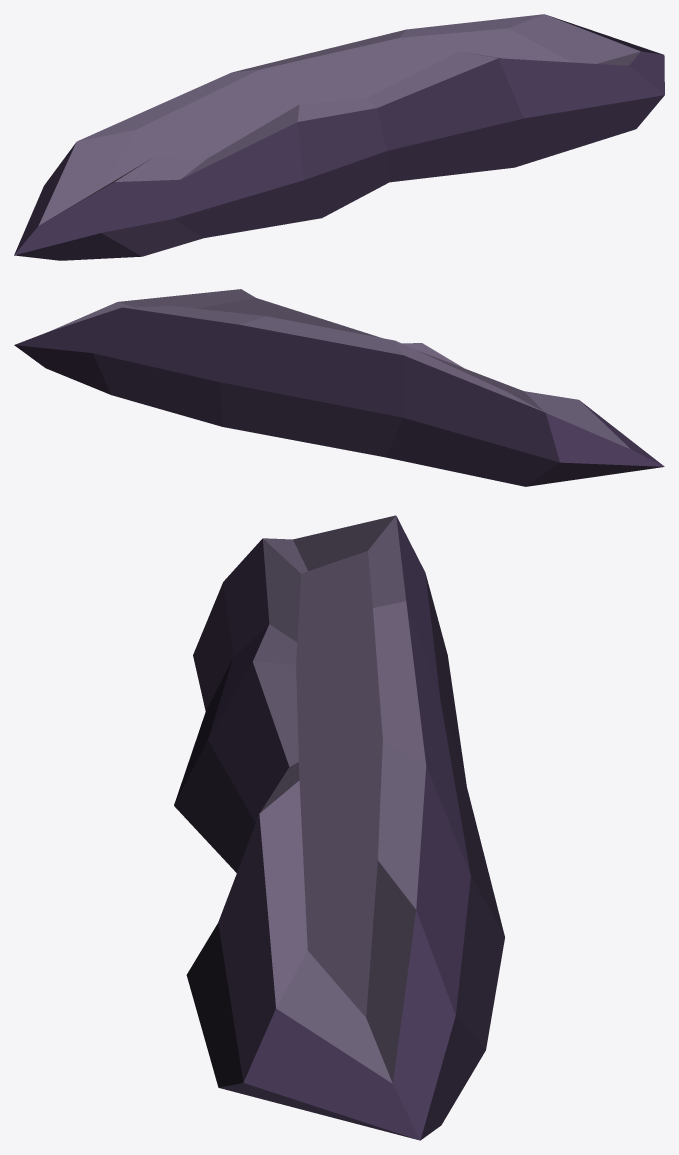
The model's file is grotto-ridge.glb.
The picture shows the model from 3 angles, top to bottom: view 1: azimuth 30°, elevation 25°; view 2: azimuth 150°, elevation 25°; view 3: azimuth 270°, elevation 25°; orthographic projection. The views are drawn at different scales.
Visible parts, largest first — view 1: grotto-ridge; view 2: grotto-ridge; view 3: grotto-ridge.
Boxes of the visible parts, x1=… form: grotto-ridge: x1=14, y1=14, x2=664, y2=260; grotto-ridge: x1=14, y1=289, x2=664, y2=486; grotto-ridge: x1=174, y1=515, x2=504, y2=1140.
Bounding box in the file's own units: 28 × 4.2 × 6.55.
